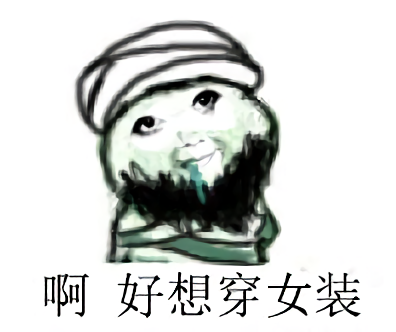dragon: (130, 90, 226, 172)
